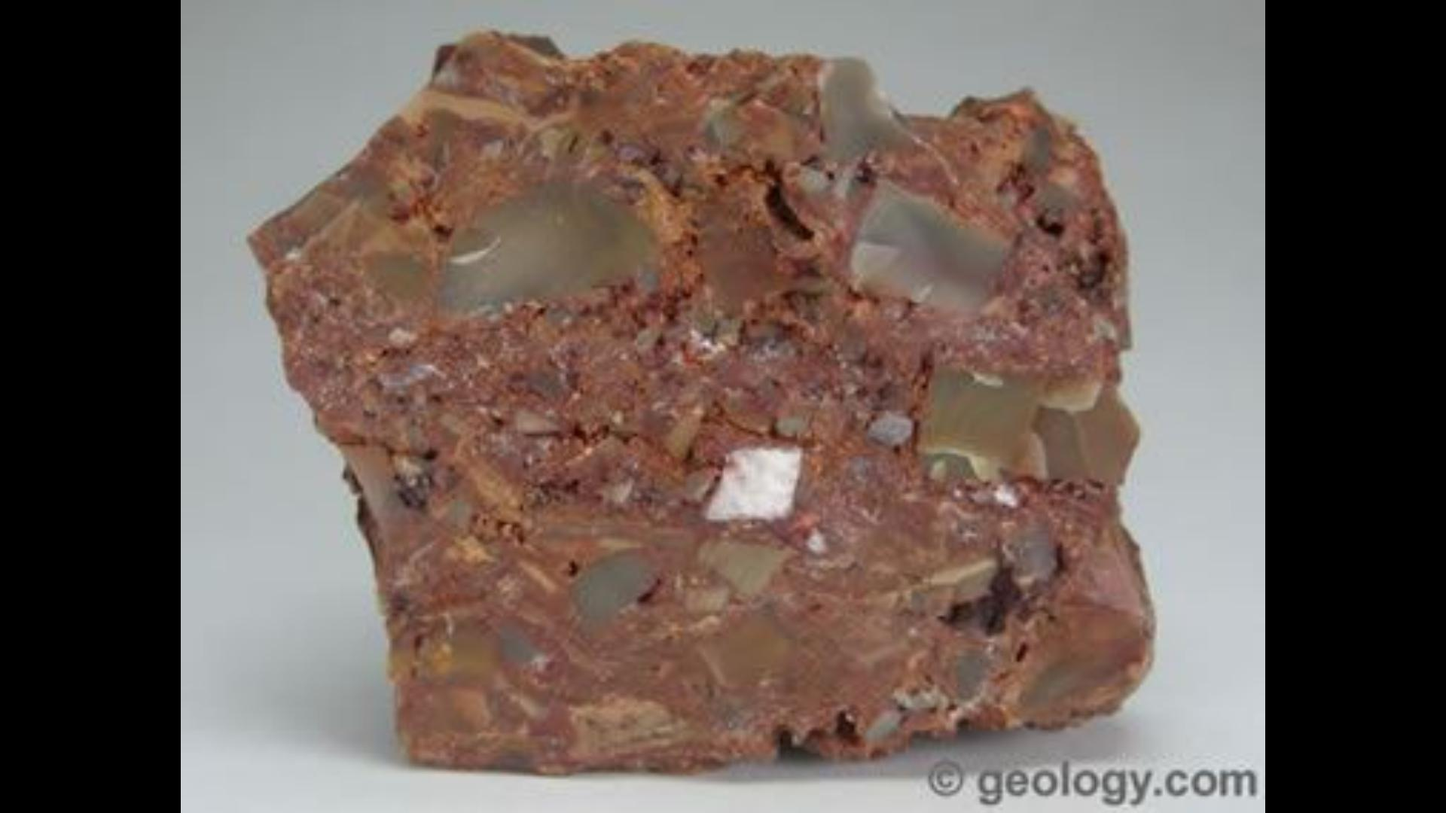rock: (249, 31, 1151, 770)
